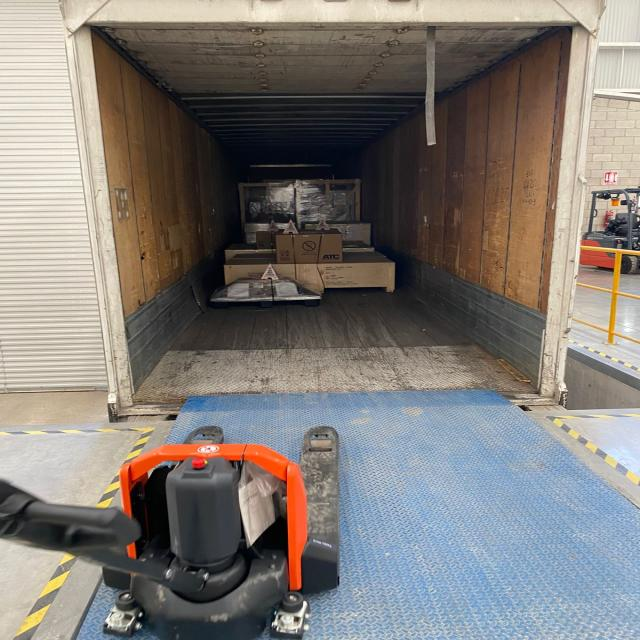flood: (273, 252, 395, 292), (224, 255, 270, 284)
